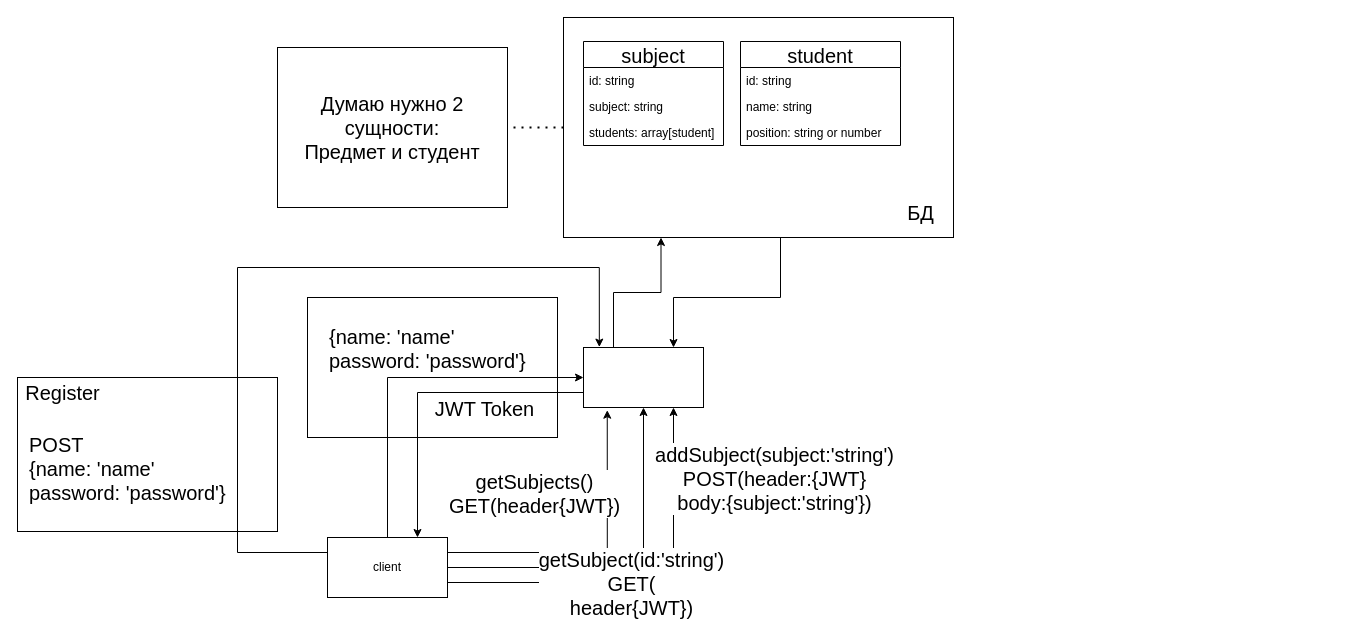
This 1355x636 diagram has some shape labels left out. The shapes that lost their labels are listed below. From the top down, each one's centre as x and y in pixels, then its label:
At (432,367): "Sign In".
At (643,377): "server".
